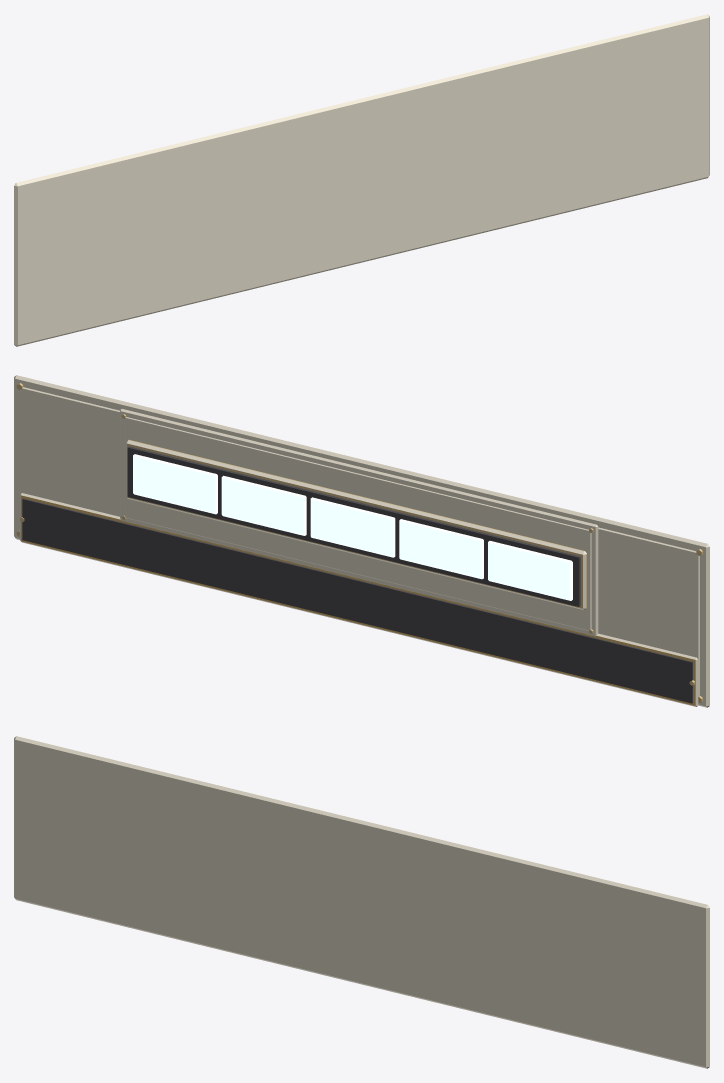
File: Disp_Bar_4x1.fbx
The picture shows the model from 3 angles, top to bottom: view 1: azimuth 30°, elevation 25°; view 2: azimuth 150°, elevation 25°; view 3: azimuth 330°, elevation 25°; orthographic projection.
Visible parts, largest first — view 1: Disp_Bar_4x1; view 2: Disp_Bar_4x1, Seg2.006, Seg1.006, Seg0.006, Seg3.006, Seg4.006; view 3: Disp_Bar_4x1.
Boxes of the visible parts, <box> form: Disp_Bar_4x1: <box>14,14,709,346</box>; Disp_Bar_4x1: <box>14,375,709,707</box>; Seg2.006: <box>310,497,395,557</box>; Seg1.006: <box>221,475,306,535</box>; Seg0.006: <box>133,454,217,514</box>; Seg3.006: <box>399,519,483,579</box>; Seg4.006: <box>488,541,572,600</box>; Disp_Bar_4x1: <box>14,736,709,1068</box>.
Bounding box in the file's own units: 4.26 × 0.96 × 0.1209.
